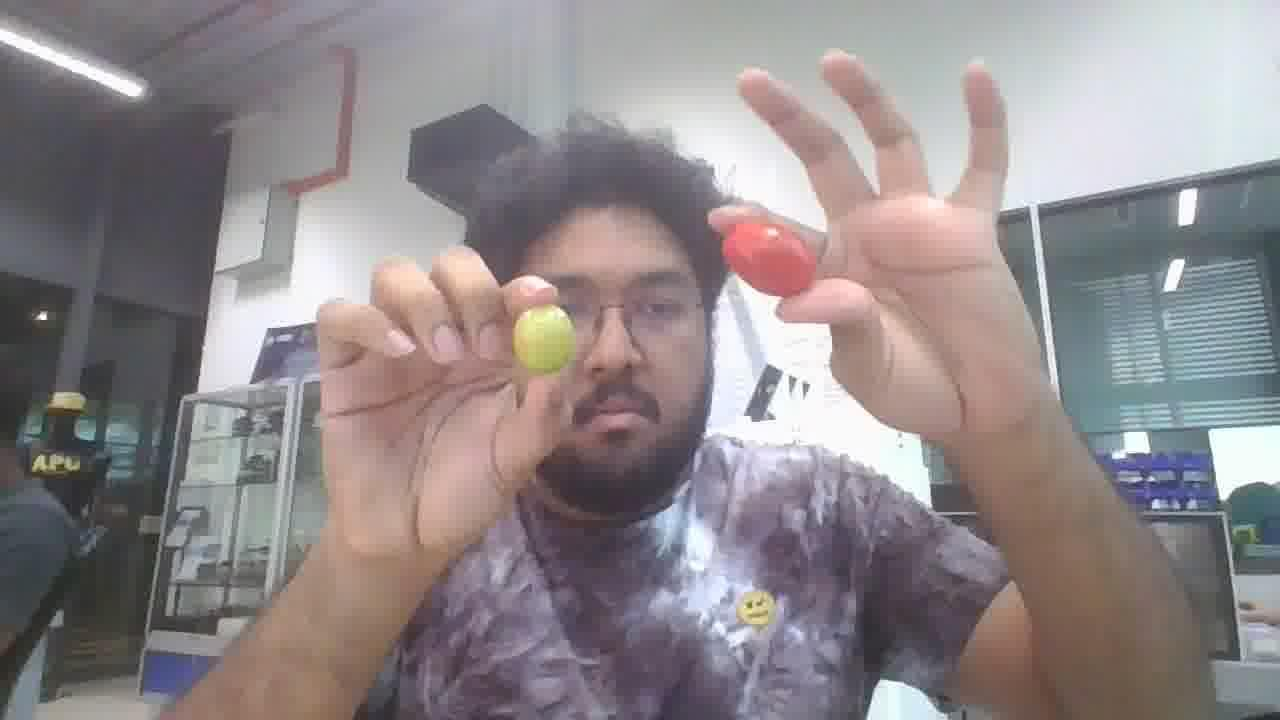green_cherry_tomato: (512, 305, 576, 374)
red_cherry_tomato: (722, 222, 816, 297)
